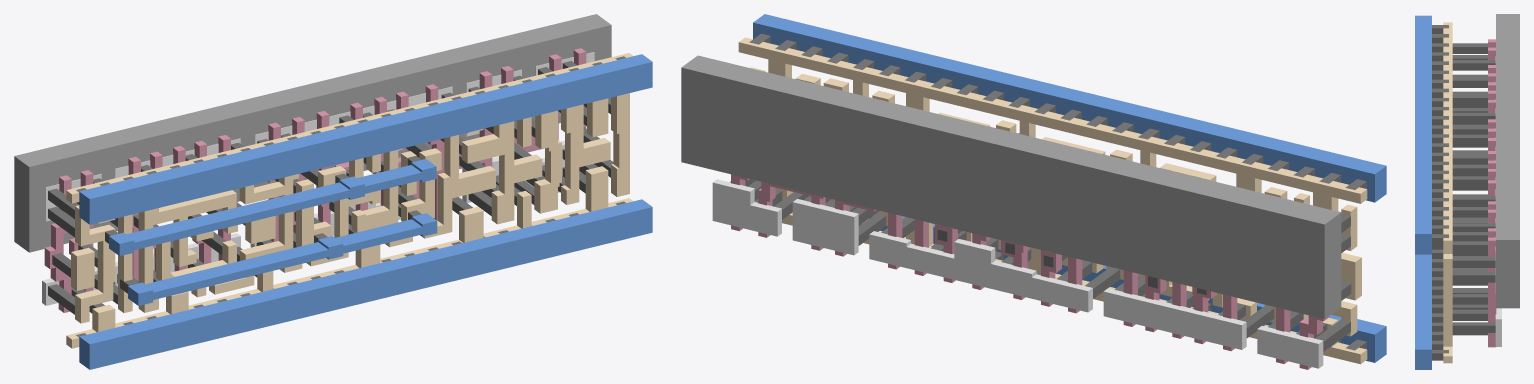
File: sky130_fd_sc_hd__sdfxbp_1.gds.gltf
3 views of the same model, side by side, from view 1: azimuth 30°, elevation 25°; view 2: azimuth 150°, elevation 25°; view 3: azimuth 270°, elevation 25° (orthographic). The views are drawn at different scales.
Visible parts, largest first — view 1: sky130_fd_sc_hd__sdfxbp_1_met1, sky130_fd_sc_hd__sdfxbp_1_li1, sky130_fd_sc_hd__sdfxbp_1_nwell, sky130_fd_sc_hd__sdfxbp_1_poly, sky130_fd_sc_hd__sdfxbp_1_licon, sky130_fd_sc_hd__sdfxbp_1_diff, sky130_fd_sc_hd__sdfxbp_1_mcon; view 2: sky130_fd_sc_hd__sdfxbp_1_nwell, sky130_fd_sc_hd__sdfxbp_1_diff, sky130_fd_sc_hd__sdfxbp_1_li1, sky130_fd_sc_hd__sdfxbp_1_met1, sky130_fd_sc_hd__sdfxbp_1_poly, sky130_fd_sc_hd__sdfxbp_1_licon, sky130_fd_sc_hd__sdfxbp_1_mcon; view 3: sky130_fd_sc_hd__sdfxbp_1_licon, sky130_fd_sc_hd__sdfxbp_1_nwell, sky130_fd_sc_hd__sdfxbp_1_met1, sky130_fd_sc_hd__sdfxbp_1_mcon, sky130_fd_sc_hd__sdfxbp_1_li1, sky130_fd_sc_hd__sdfxbp_1_poly, sky130_fd_sc_hd__sdfxbp_1_diff.
Boxes of the visible parts, x1,y1,x2,y2 form: sky130_fd_sc_hd__sdfxbp_1_met1: (79,54,652,369); sky130_fd_sc_hd__sdfxbp_1_li1: (66,53,633,348); sky130_fd_sc_hd__sdfxbp_1_nwell: (14,14,611,252); sky130_fd_sc_hd__sdfxbp_1_poly: (44,48,586,312); sky130_fd_sc_hd__sdfxbp_1_licon: (48,61,613,314); sky130_fd_sc_hd__sdfxbp_1_diff: (42,52,594,305); sky130_fd_sc_hd__sdfxbp_1_mcon: (76,56,625,337); sky130_fd_sc_hd__sdfxbp_1_nwell: (681,55,1341,318); sky130_fd_sc_hd__sdfxbp_1_diff: (712,179,1323,368); sky130_fd_sc_hd__sdfxbp_1_li1: (738,37,1367,364); sky130_fd_sc_hd__sdfxbp_1_met1: (753,14,1386,362); sky130_fd_sc_hd__sdfxbp_1_poly: (731,174,1329,369); sky130_fd_sc_hd__sdfxbp_1_licon: (730,73,1351,351); sky130_fd_sc_hd__sdfxbp_1_mcon: (749,33,1366,350); sky130_fd_sc_hd__sdfxbp_1_licon: (1452,43,1495,335); sky130_fd_sc_hd__sdfxbp_1_nwell: (1496,14,1519,308); sky130_fd_sc_hd__sdfxbp_1_met1: (1415,15,1431,369); sky130_fd_sc_hd__sdfxbp_1_mcon: (1432,25,1448,360); sky130_fd_sc_hd__sdfxbp_1_li1: (1443,22,1452,363); sky130_fd_sc_hd__sdfxbp_1_poly: (1488,39,1496,347); sky130_fd_sc_hd__sdfxbp_1_diff: (1495,56,1501,346).
Size of the model in its own units: 11.42 by 3.2 by 2.24.
